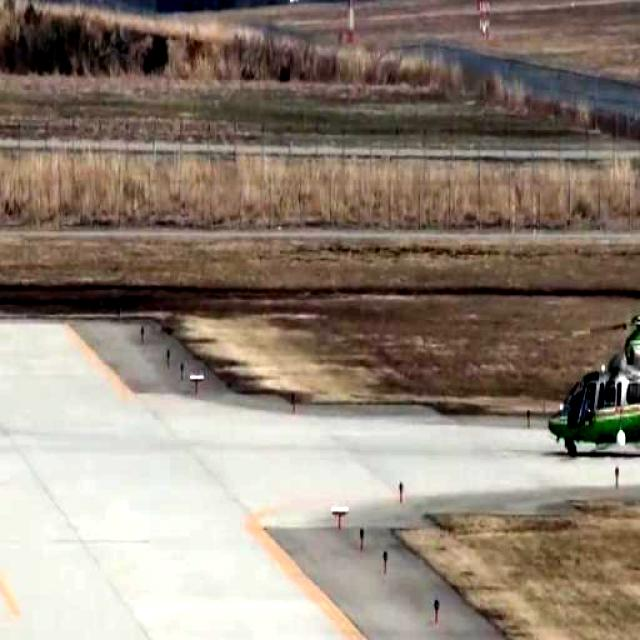drone: (544, 288, 640, 468)
